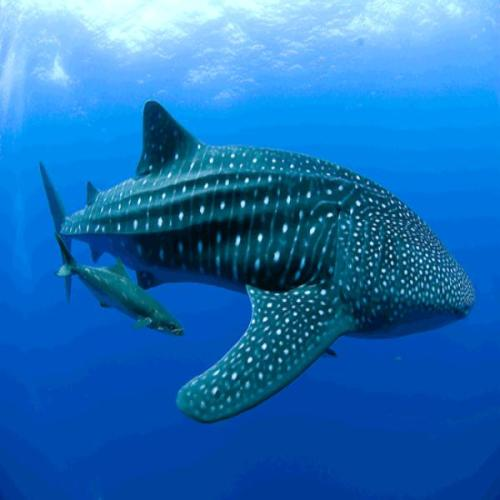shark-endangered: (41, 101, 475, 423)
